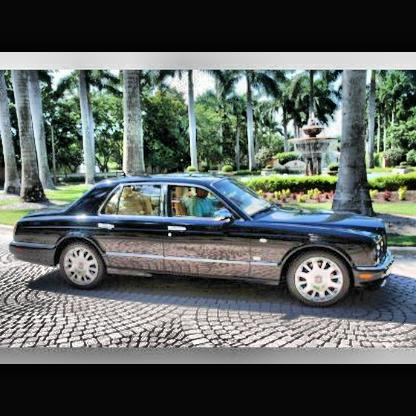Bentley Arnage Sedan 2009: (10, 175, 397, 313)
